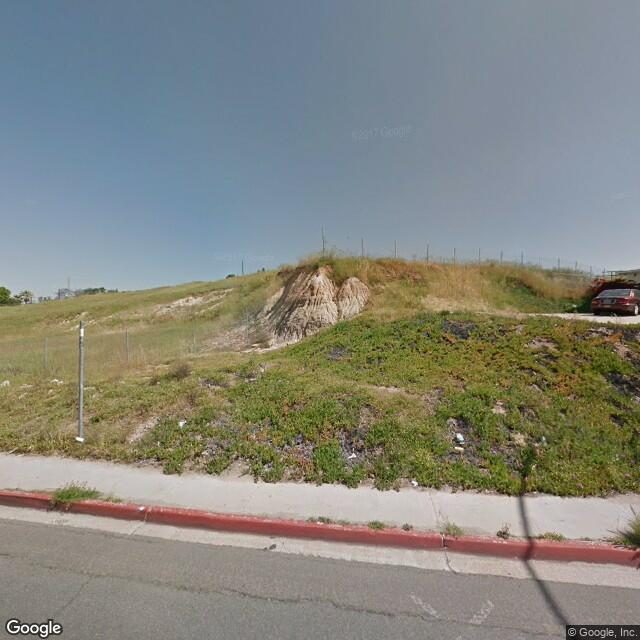litter: (343, 435, 389, 484), (444, 426, 471, 455), (175, 417, 189, 428)
